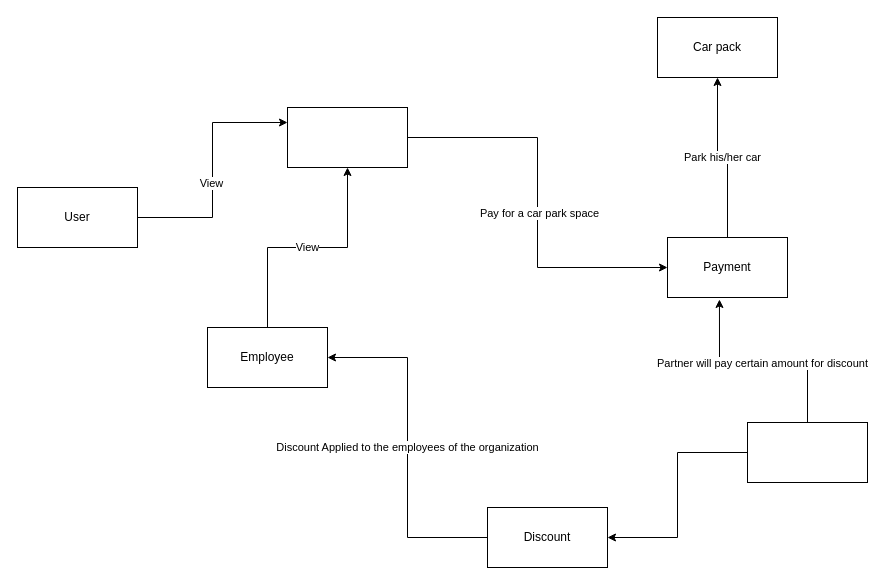
Some shapes in this 885 by 585 pixel diagram are drawn without their labels. Here are the shapes that lost their labels. From the top down, the centre of each, then its label:
At (x=347, y=137): "Available Services".
At (x=807, y=452): "Partner Registration".
